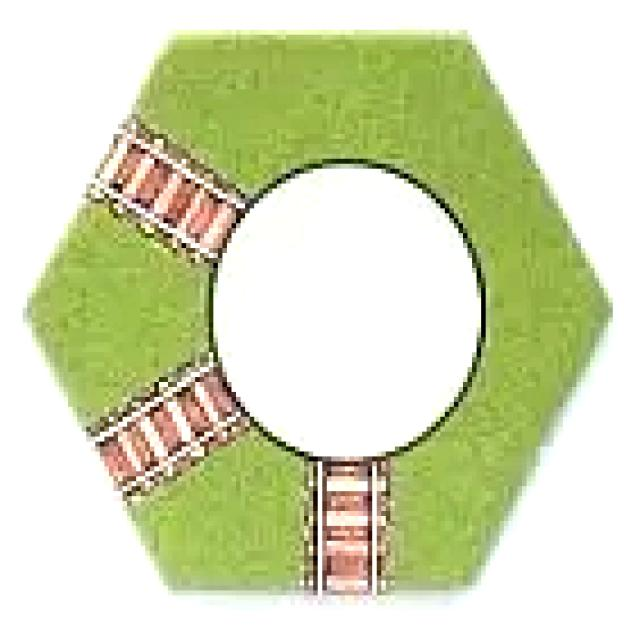12_0: (28, 30, 615, 597)
